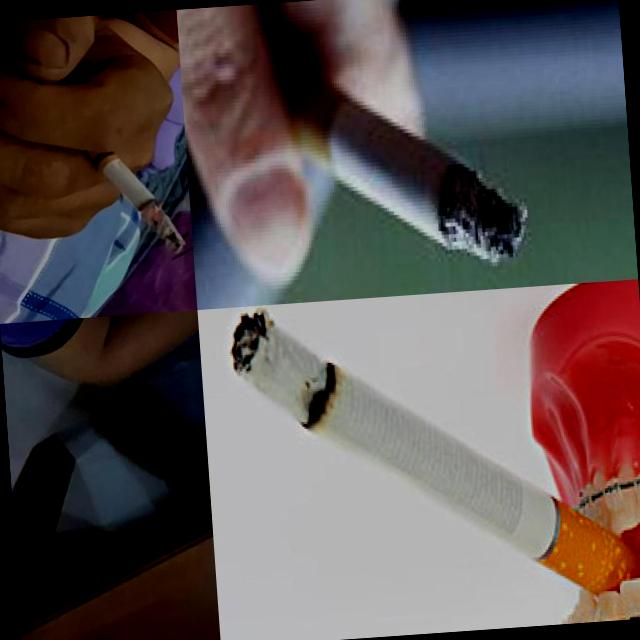cigarette: (226, 282, 640, 614), (218, 21, 532, 286), (76, 126, 186, 262)
